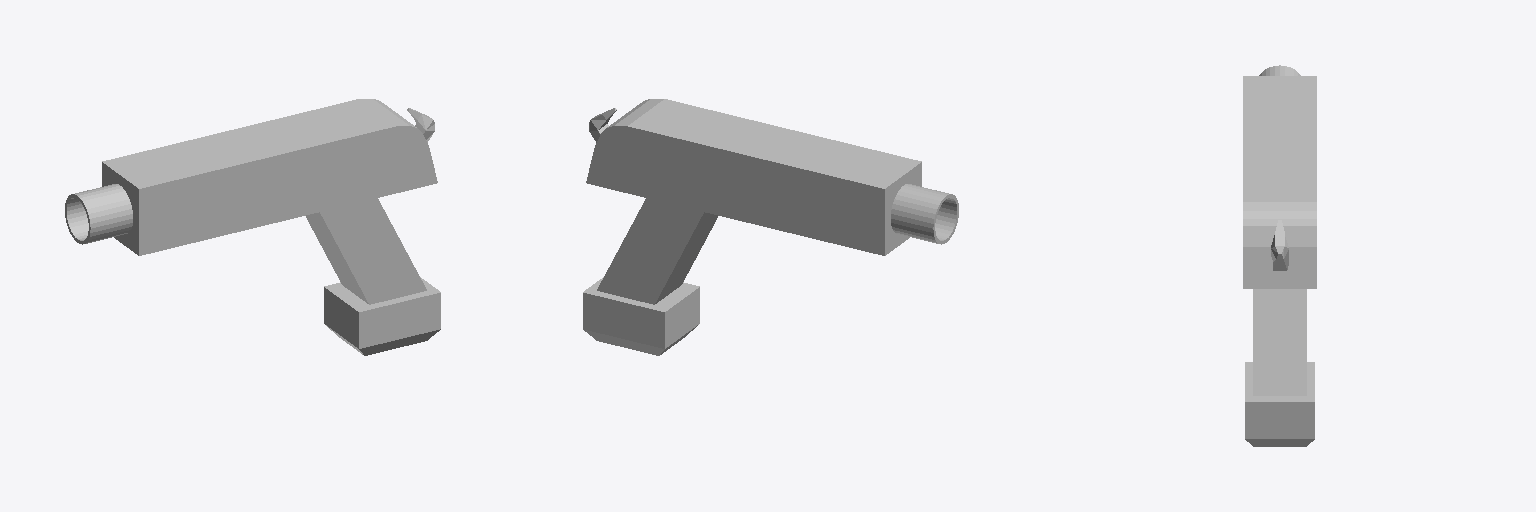
Rendered from pistol.obj.
3 views of the same model, side by side, from view 1: azimuth 30°, elevation 25°; view 2: azimuth 150°, elevation 25°; view 3: azimuth 270°, elevation 25° (orthographic).
Visible parts, largest first — view 1: Cube, Cube.001, Cube.003_Cube.004, Cylinder; view 2: Cube, Cube.001, Cube.003_Cube.004, Cylinder; view 3: Cube, Cube.001, Cube.003_Cube.004, Cube.002.
Boxes of the visible parts, x1=… form: Cube: x1=102, y1=99, x2=437, y2=255; Cube.001: x1=306, y1=198, x2=426, y2=304; Cube.003_Cube.004: x1=324, y1=277, x2=440, y2=355; Cylinder: x1=65, y1=184, x2=132, y2=244; Cube: x1=586, y1=99, x2=921, y2=255; Cube.001: x1=597, y1=198, x2=717, y2=304; Cube.003_Cube.004: x1=583, y1=277, x2=699, y2=355; Cylinder: x1=891, y1=184, x2=958, y2=244; Cube: x1=1243, y1=76, x2=1316, y2=288; Cube.001: x1=1253, y1=289, x2=1306, y2=395; Cube.003_Cube.004: x1=1245, y1=362, x2=1314, y2=446; Cube.002: x1=1271, y1=220, x2=1288, y2=270.
Bounding box in the file's own units: 11.78 × 7.18 × 2.14.